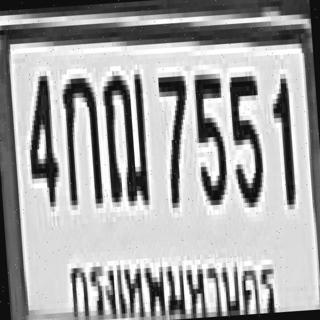A01: (59, 72, 101, 205)
A12: (99, 64, 148, 202)
N01: (269, 74, 294, 205)
N04: (22, 70, 59, 203)
N05: (190, 68, 226, 201), (227, 71, 263, 203)
N07: (156, 71, 192, 204)
P04: (62, 235, 278, 320)
